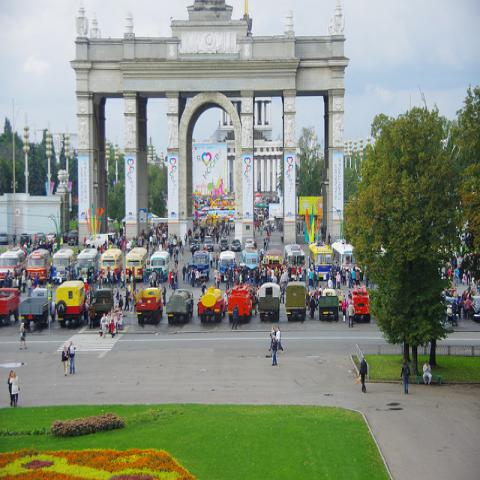bus: (328, 228, 360, 279), (307, 242, 333, 281), (0, 247, 28, 282), (26, 246, 52, 282), (76, 246, 100, 283), (125, 244, 150, 278), (284, 242, 306, 280), (145, 250, 170, 282), (53, 248, 75, 283), (102, 246, 123, 280), (190, 250, 210, 281), (219, 250, 237, 283), (240, 248, 260, 270), (264, 248, 283, 269)
car: (2, 191, 474, 408), (85, 234, 109, 249), (470, 295, 479, 322), (68, 230, 82, 246), (33, 232, 45, 250), (202, 236, 214, 252), (190, 239, 201, 251), (219, 239, 229, 251), (20, 233, 32, 243), (230, 239, 240, 250), (46, 232, 56, 242), (245, 239, 254, 249)
truck: (18, 284, 56, 330), (54, 282, 87, 328), (136, 287, 166, 325), (198, 285, 226, 323), (227, 284, 253, 322), (257, 282, 280, 324), (166, 289, 194, 323), (285, 280, 306, 322), (91, 289, 114, 325), (0, 287, 20, 325), (352, 283, 371, 322), (319, 291, 340, 323), (444, 294, 461, 330), (336, 296, 338, 315)
